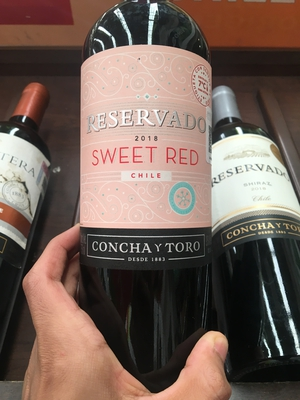reservado sweet red: (78, 13, 229, 369)
